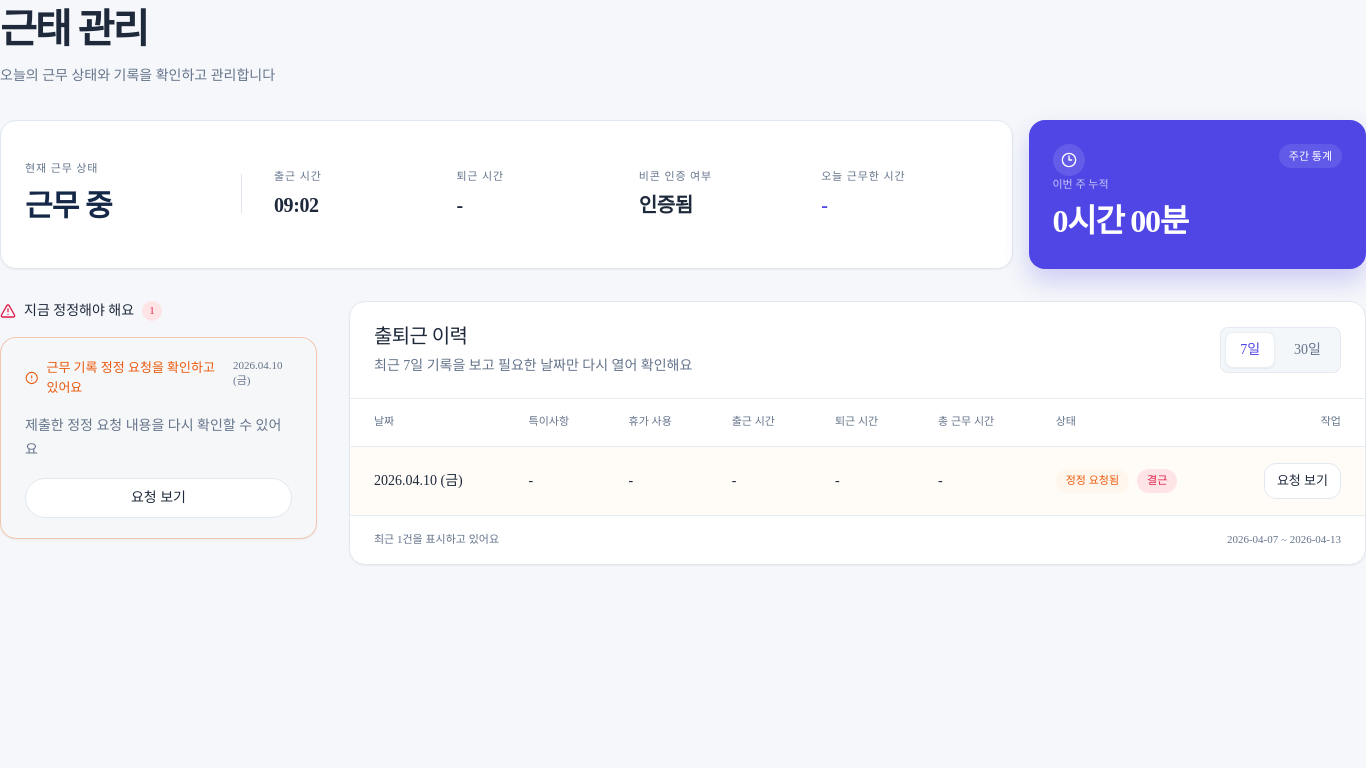
Test: AttendancePageClient › renders pending history rows with warning emphasis and a request-view action
Expected: the text "정정 요청됨" is shown, top-left (1066, 474), bottom-right (1119, 486)
Expected: the text "결근" is shown, top-left (1137, 469), bottom-right (1177, 493)
Click the button "요청 보기" in the row of "정정 요청됨" at coordinates (1302, 481), box top-left (1264, 463), bottom-right (1341, 499)
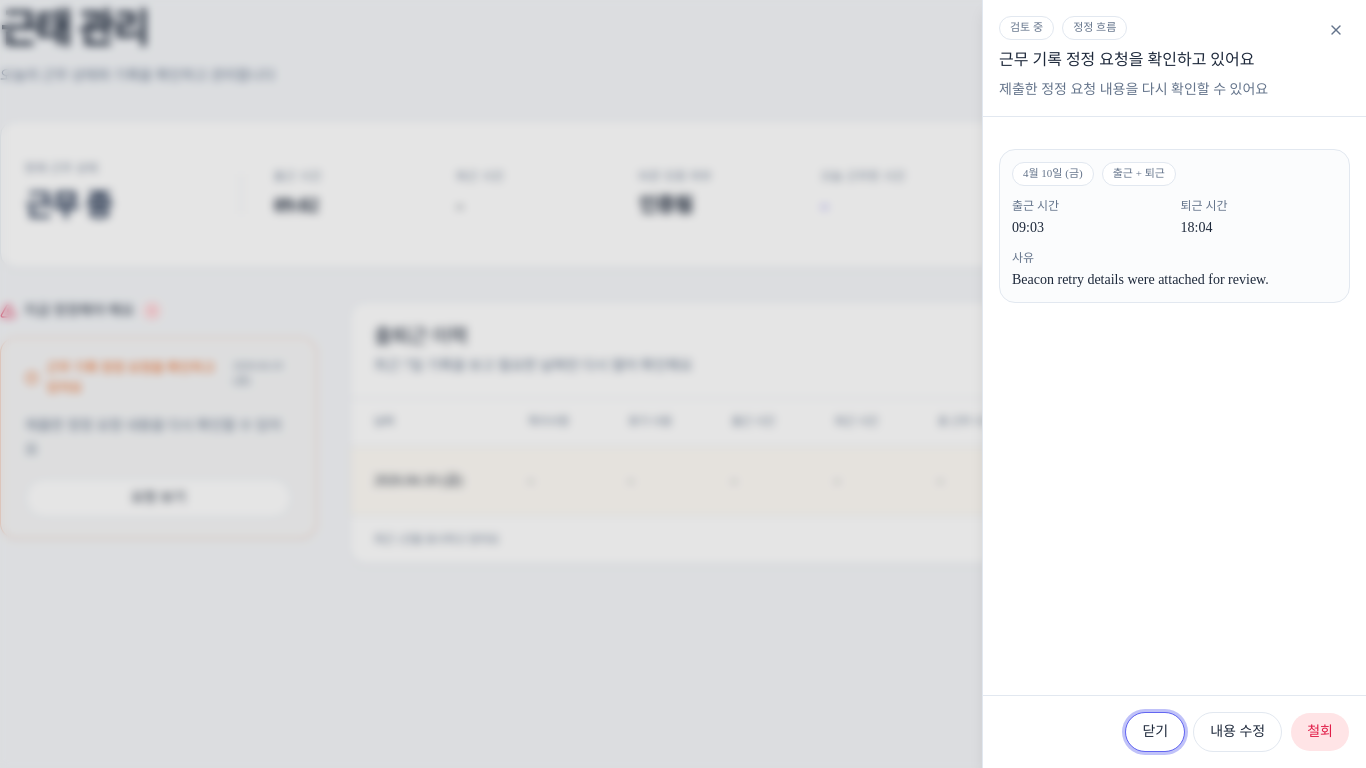
Result: the text "Beacon retry details were attached for review." is shown at top-left (1012, 272), bottom-right (1269, 287)
Result: the button "내용 수정" is shown at top-left (1193, 712), bottom-right (1282, 752)
